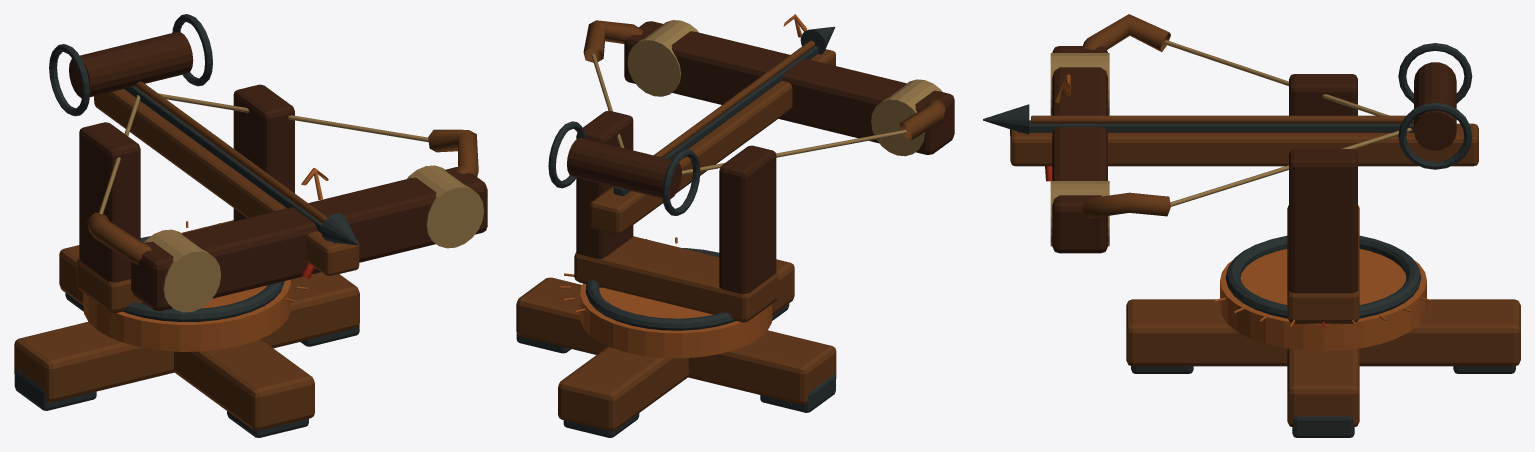
The model's file is ballista_orientable_LOD0.glb.
The picture shows the model from 3 angles, left to right: view 1: azimuth 30°, elevation 25°; view 2: azimuth 150°, elevation 25°; view 3: azimuth 270°, elevation 25°; orthographic projection. The views are drawn at different scales.
Parts seen in each view (by area): view 1: BallistaFrontCrosshead, BallistaBaseCross, BallistaBaseLong, BallistaBoltRail, BallistaForkPost, BallistaYawRace, BallistaForkPost.001, BallistaWinchDrum, BallistaTorsionCoil, BallistaTorsionCoil.001, BallistaYawBearing, BallistaLoadedBolt (+11 smaller); view 2: BallistaFrontCrosshead, BallistaBaseCross, BallistaForkBridge, BallistaBaseLong, BallistaForkPost, BallistaYawRace, BallistaBoltRail, BallistaWinchDrum, BallistaForkPost.001, BallistaTorsionCoil.001, BallistaTorsionCoil, BallistaYawBearing (+10 smaller); view 3: BallistaBaseLong, BallistaBoltRail, BallistaYawRace, BallistaForkPost.001, BallistaFrontCrosshead, BallistaBaseCross, BallistaYawBearing, BallistaSliderChannel, BallistaLoadedBolt, BallistaWinchDrum, BallistaForkPost, BallistaForkBridge (+10 smaller).
Boxes of the visible parts, <box> form: BallistaFrontCrosshead: <box>131,167,487,311</box>; BallistaBaseCross: <box>14,272,359,402</box>; BallistaBaseLong: <box>59,245,314,430</box>; BallistaBoltRail: <box>94,89,359,275</box>; BallistaForkPost: <box>79,122,140,313</box>; BallistaYawRace: <box>83,279,290,351</box>; BallistaForkPost.001: <box>233,84,294,220</box>; BallistaWinchDrum: <box>69,32,193,97</box>; BallistaTorsionCoil: <box>144,229,221,312</box>; BallistaTorsionCoil.001: <box>407,165,483,248</box>; BallistaYawBearing: <box>123,236,284,321</box>; BallistaLoadedBolt: <box>134,81,327,223</box>; BallistaFrontCrosshead: <box>624,21,954,154</box>; BallistaBaseCross: <box>516,277,836,404</box>; BallistaForkBridge: <box>574,236,778,321</box>; BallistaBaseLong: <box>558,259,794,431</box>; BallistaForkPost: <box>719,145,776,322</box>; BallistaYawRace: <box>580,283,772,358</box>; BallistaBoltRail: <box>590,49,835,234</box>; BallistaWinchDrum: <box>567,138,681,199</box>; BallistaForkPost.001: <box>576,110,633,287</box>; BallistaTorsionCoil.001: <box>627,20,698,96</box>; BallistaTorsionCoil: <box>871,79,942,156</box>; BallistaYawBearing: <box>585,248,735,330</box>; BallistaBaseLong: <box>1126,299,1520,366</box>; BallistaBoltRail: <box>1010,123,1478,166</box>; BallistaYawRace: <box>1220,249,1426,351</box>; BallistaForkPost.001: <box>1289,149,1357,323</box>; BallistaFrontCrosshead: <box>1052,46,1107,253</box>; BallistaBaseCross: <box>1287,348,1359,426</box>; BallistaYawBearing: <box>1225,235,1421,318</box>; BallistaSliderChannel: <box>1018,120,1413,132</box>; BallistaLoadedBolt: <box>1031,115,1413,123</box>; BallistaWinchDrum: <box>1414,62,1456,150</box>; BallistaForkPost: <box>1289,74,1357,115</box>; BallistaForkBridge: <box>1287,205,1359,322</box>.
Bounding box in the file's own units: 2.69 × 1.95 × 3.27.
